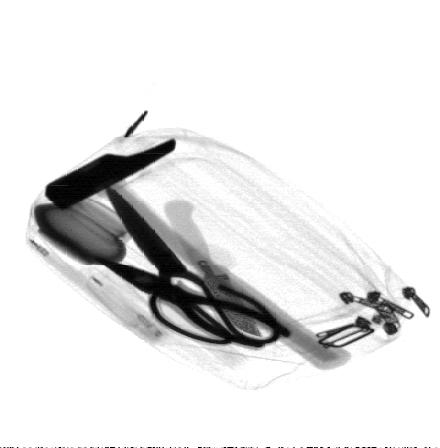Hammer: (43, 138, 352, 371)
Knife: (161, 200, 263, 338)
Pliers: (92, 256, 295, 351)
Scissors: (99, 180, 282, 347)
